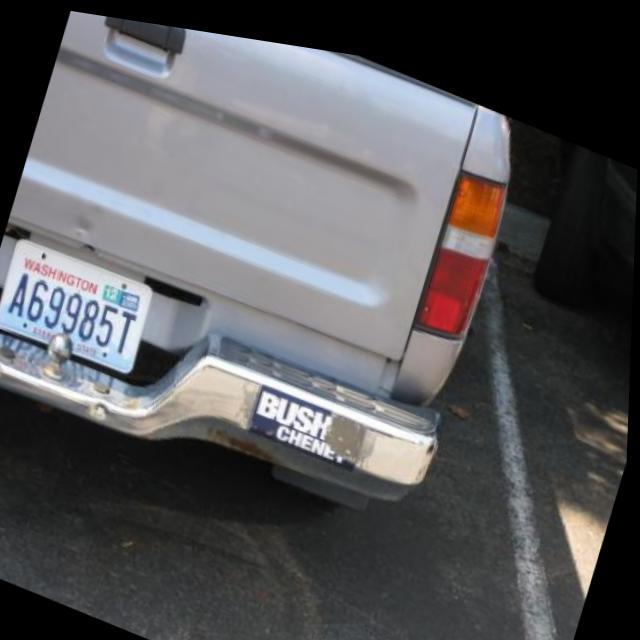license_plate: (0, 228, 159, 378)
